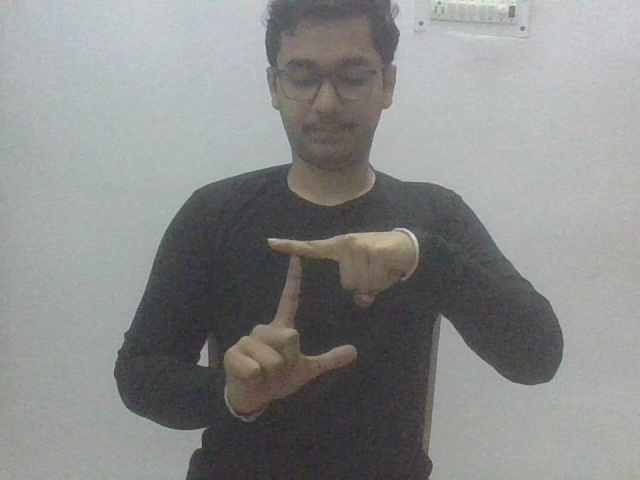J: (225, 225, 421, 423)
